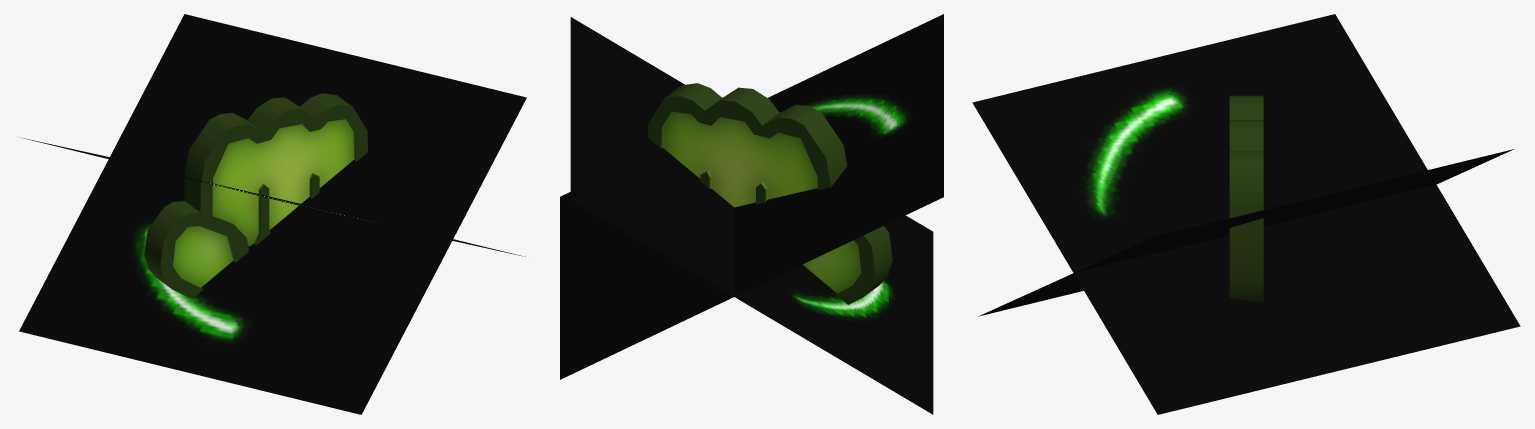
Rendered from Pickup_Damage_Increase.fbx.
The picture shows the model from 3 angles, left to right: view 1: azimuth 30°, elevation 25°; view 2: azimuth 150°, elevation 25°; view 3: azimuth 270°, elevation 25°; orthographic projection. The views are drawn at different scales.
Visible parts, largest first — view 1: plane (×2), Pickup_Buff_Strength; view 2: plane (×2), Pickup_Buff_Strength; view 3: plane (×2), Pickup_Buff_Strength.
Boxes of the visible parts, x1=… form: plane (×2): x1=19, y1=14, x2=526, y2=414; Pickup_Buff_Strength: x1=144, y1=93, x2=367, y2=298; plane (×2): x1=560, y1=14, x2=943, y2=414; Pickup_Buff_Strength: x1=648, y1=83, x2=892, y2=304; plane (×2): x1=972, y1=14, x2=1520, y2=414; Pickup_Buff_Strength: x1=1229, y1=95, x2=1263, y2=302.
Bounding box in the file's own units: 3.54 × 1.61 × 3.65.
4 materials, 3 textured.
